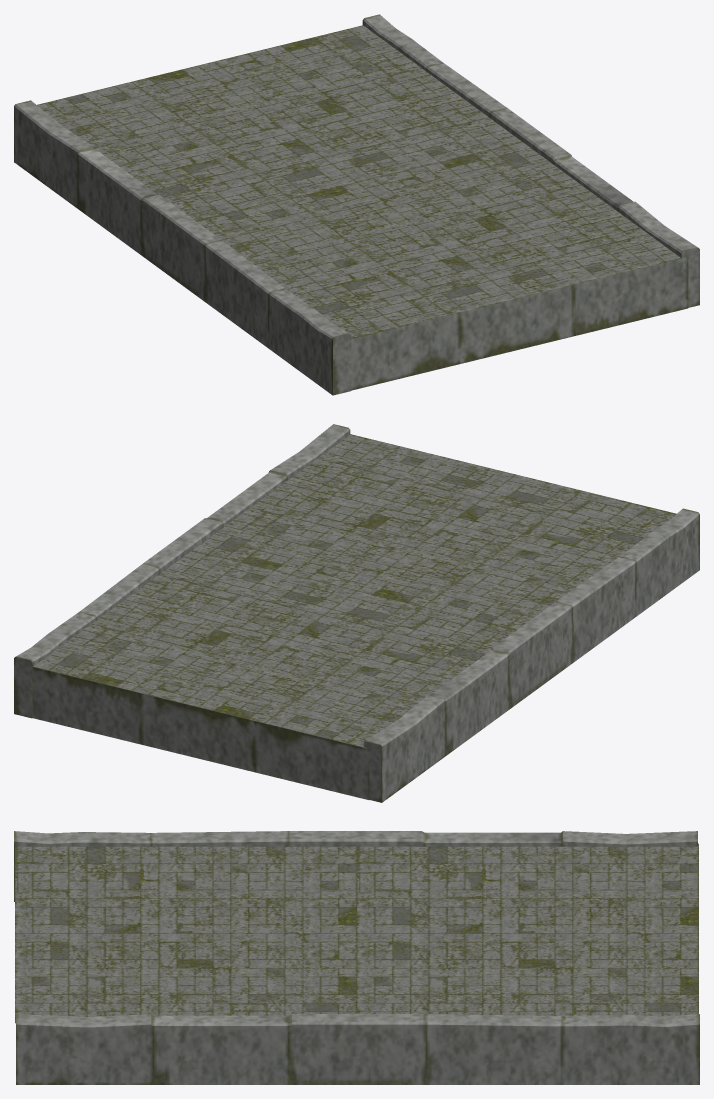
File: stone_mid.fbx
3 renders of one model, top to bottom at view 1: azimuth 30°, elevation 25°; view 2: azimuth 150°, elevation 25°; view 3: azimuth 270°, elevation 25°, orthographic. The views are drawn at different scales.
Parts seen in each view (by area): view 1: stone_mid; view 2: stone_mid; view 3: stone_mid.
Boxes of the visible parts, x1,y1,x2,y2 form: stone_mid: (14,14,699,395); stone_mid: (14,424,699,802); stone_mid: (14,831,699,1084).
Bounding box in the file's own units: 400 × 60 × 602.
